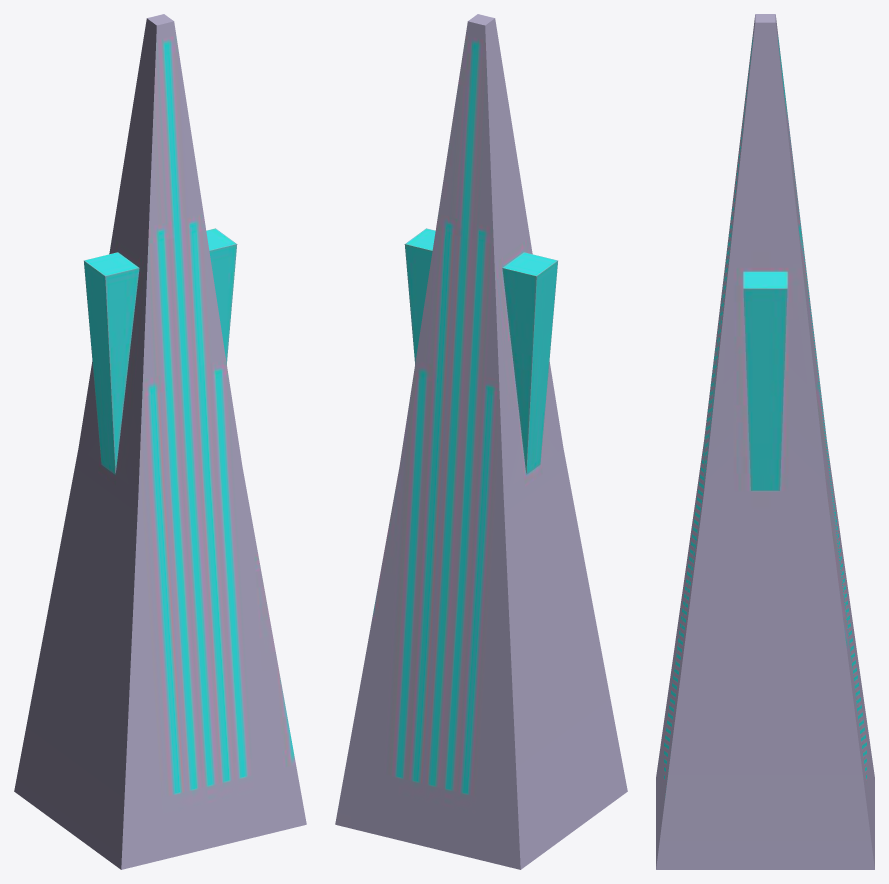
File: service_tower.obj
The picture shows the model from 3 angles, left to right: view 1: azimuth 30°, elevation 25°; view 2: azimuth 150°, elevation 25°; view 3: azimuth 270°, elevation 25°; orthographic projection. The views are drawn at different scales.
Visible parts, largest first — view 1: service_tvtower_Mesh.9256; view 2: service_tvtower_Mesh.9256; view 3: service_tvtower_Mesh.9256.
Part boxes in pixels (x1,y1,x2,y2): service_tvtower_Mesh.9256: (14,14,306,869); service_tvtower_Mesh.9256: (335,14,627,869); service_tvtower_Mesh.9256: (656,14,874,869).
Size of the model in its own units: 1.2 by 4.88 by 1.2.
1 material, 1 textured.
